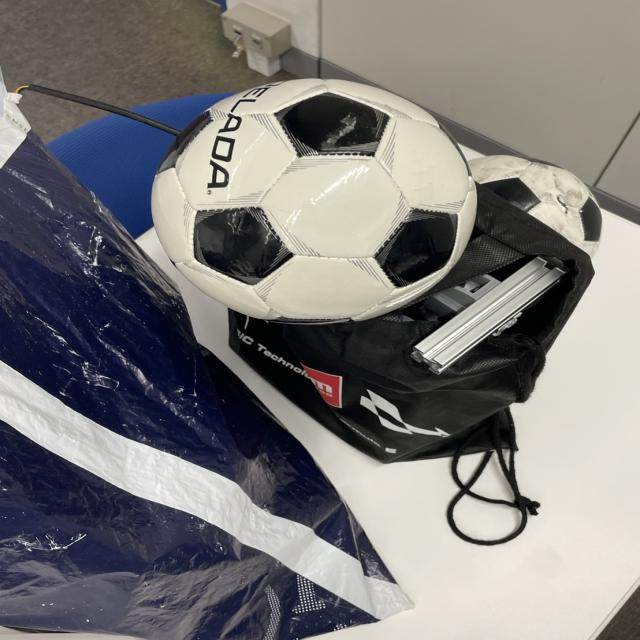ball: (155, 80, 476, 322)
